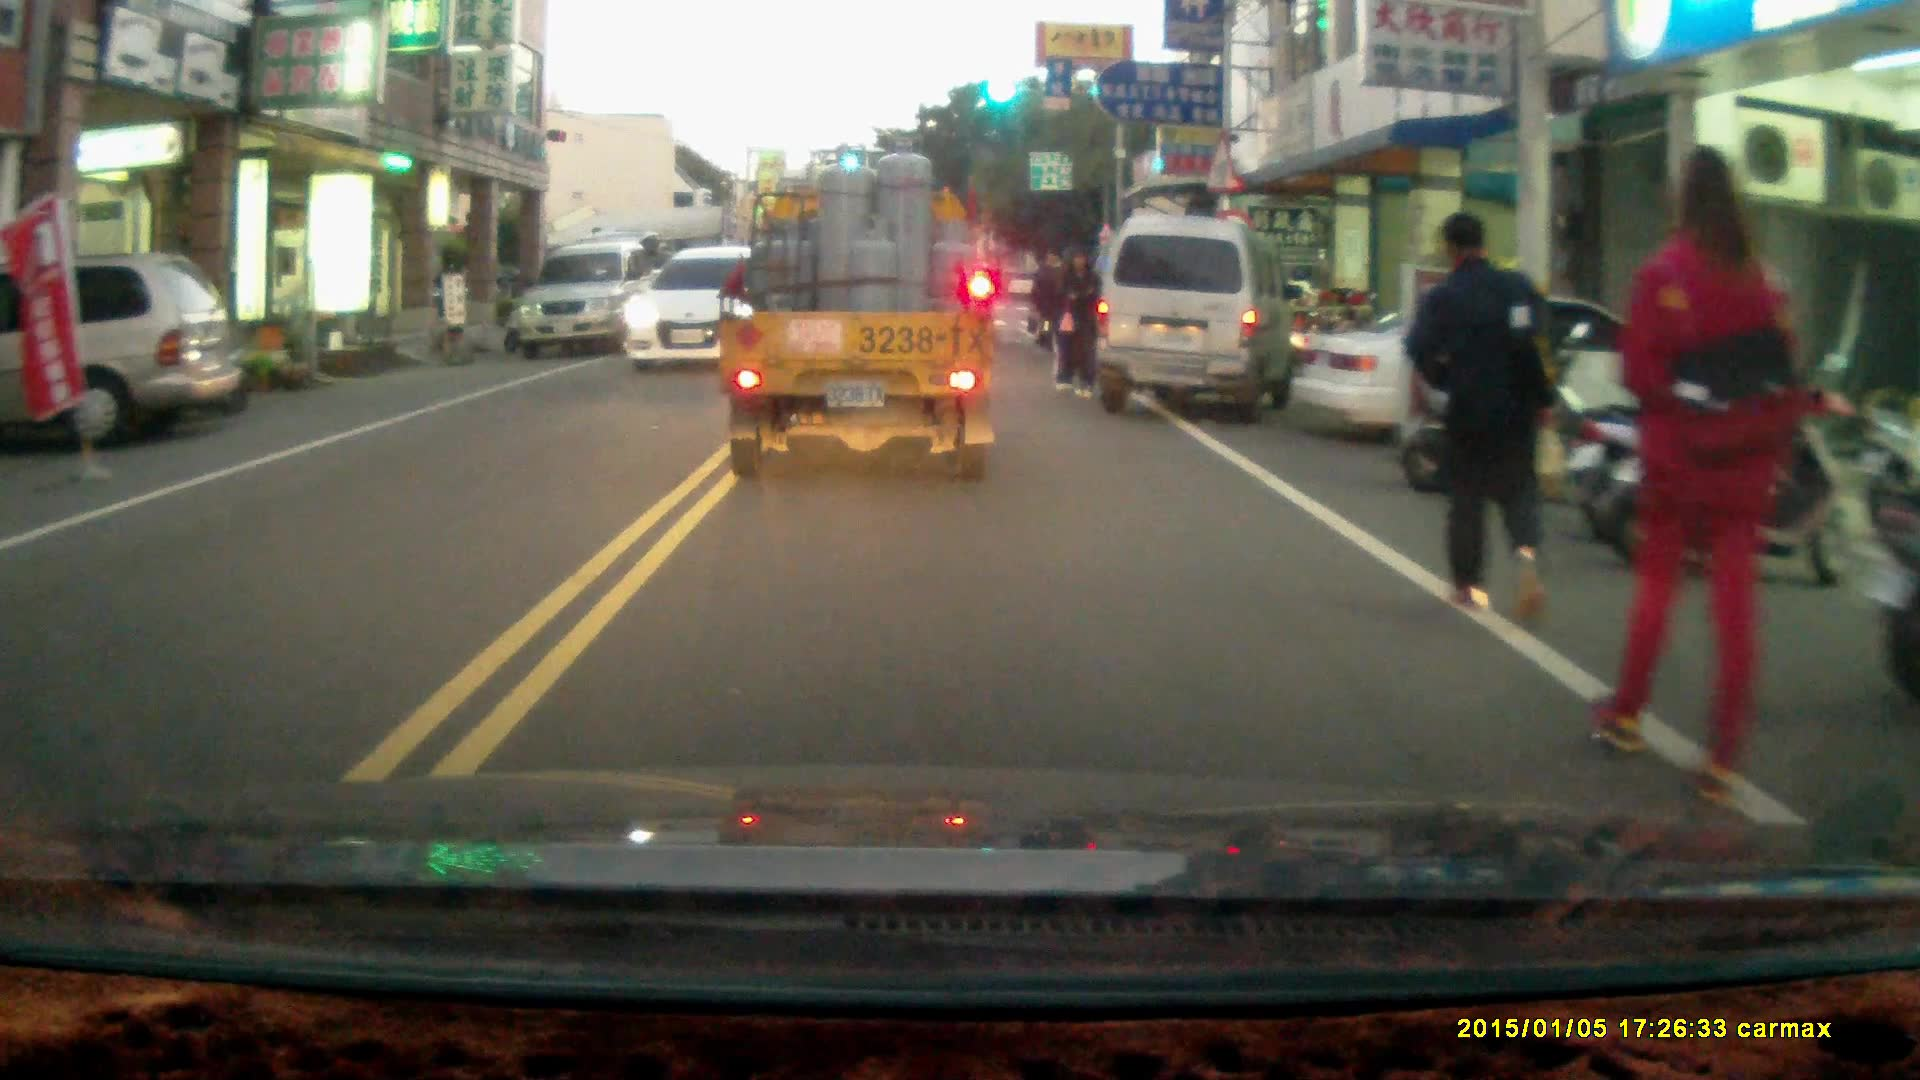pedestrian: (1584, 144, 1808, 811), (1404, 210, 1557, 624), (1055, 245, 1097, 397), (1027, 250, 1071, 354)
vehicle: (720, 186, 998, 490), (1297, 299, 1734, 465), (1, 250, 245, 445), (1096, 215, 1299, 424), (507, 243, 665, 359), (619, 245, 752, 374)
